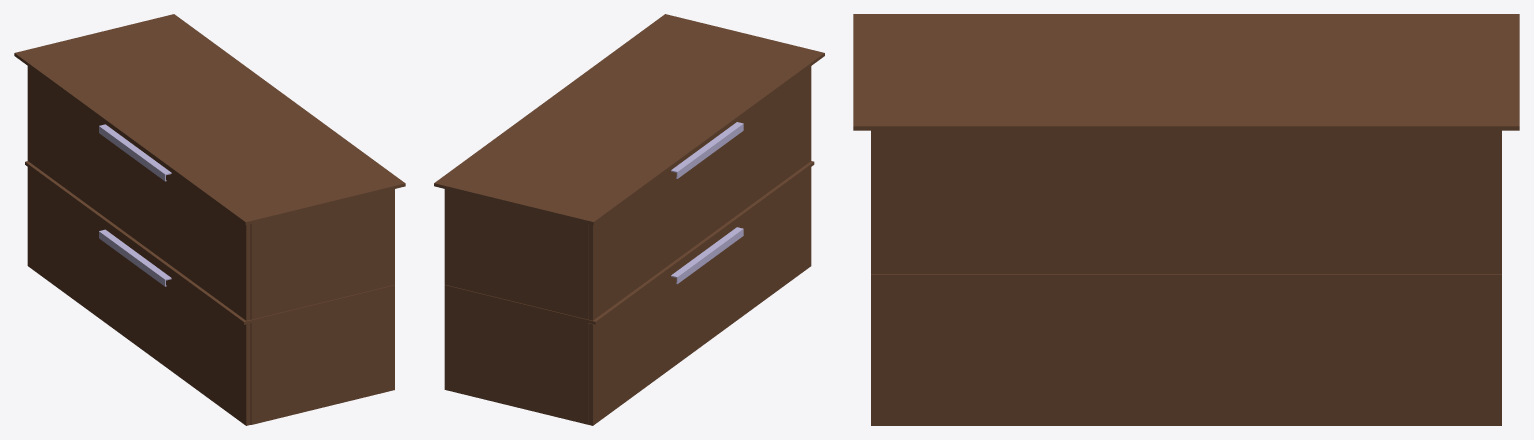
File: cabinet3.fbx
3 renders of one model, left to right at view 1: azimuth 30°, elevation 25°; view 2: azimuth 150°, elevation 25°; view 3: azimuth 270°, elevation 25°, orthographic. The views are drawn at different scales.
Visible parts, largest first — view 1: Countertop1.004, Cabinet1_Door.021, Cabinet1_Door.022, Cabinet1.028, Cabinet1.029, Countertop1.003, Handle.021, Handle.022; view 2: Countertop1.004, Cabinet1_Door.021, Cabinet1_Door.022, Cabinet1.028, Cabinet1.029, Countertop1.003, Handle.022, Handle.021; view 3: Cabinet1.028, Cabinet1.029, Countertop1.004, Countertop1.003.
Part boxes in pixels (left/top/right/bottom): Countertop1.004: left=14, top=14, right=405, bottom=225; Cabinet1_Door.021: left=27, top=167, right=250, bottom=425; Cabinet1_Door.022: left=27, top=66, right=250, bottom=320; Cabinet1.028: left=250, top=288, right=394, bottom=424; Cabinet1.029: left=250, top=189, right=394, bottom=319; Countertop1.003: left=25, top=161, right=394, bottom=324; Handle.021: left=99, top=229, right=171, bottom=286; Handle.022: left=99, top=124, right=171, bottom=181; Countertop1.004: left=434, top=14, right=824, bottom=225; Cabinet1_Door.021: left=588, top=167, right=811, bottom=425; Cabinet1_Door.022: left=588, top=66, right=811, bottom=320; Cabinet1.028: left=444, top=288, right=588, bottom=424; Cabinet1.029: left=444, top=189, right=588, bottom=319; Countertop1.003: left=444, top=161, right=814, bottom=324; Handle.022: left=671, top=122, right=743, bottom=178; Handle.021: left=671, top=227, right=743, bottom=284; Cabinet1.028: left=871, top=279, right=1501, bottom=425; Cabinet1.029: left=871, top=130, right=1501, bottom=274; Countertop1.004: left=853, top=14, right=1519, bottom=130; Countertop1.003: left=871, top=274, right=1501, bottom=279.
Bounding box in the file's own units: 0.5076 × 0.6381 × 1.27.
